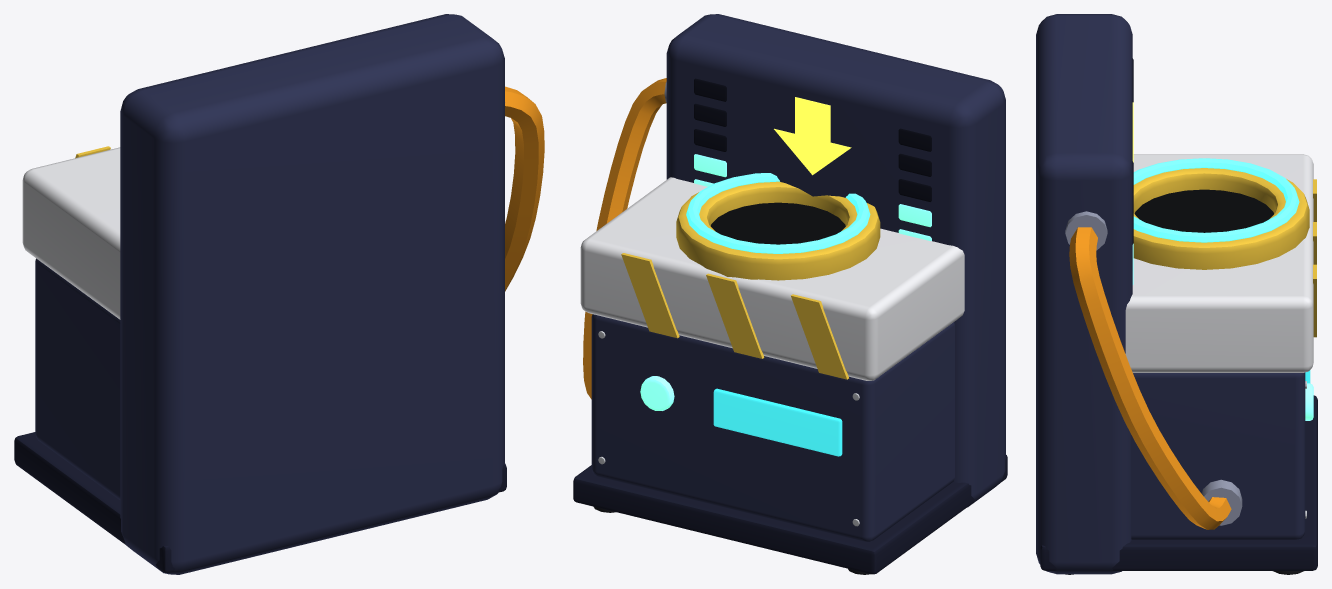
Rendered from canister_dock.glb.
The picture shows the model from 3 angles, left to right: view 1: azimuth 30°, elevation 25°; view 2: azimuth 150°, elevation 25°; view 3: azimuth 270°, elevation 25°; orthographic projection. The views are drawn at different scales.
Visible parts, largest first — view 1: Body; view 2: Body; view 3: Body.
Boxes of the visible parts, left/top/right/bottom form: Body: left=14, top=14, right=544, bottom=574; Body: left=573, top=14, right=1007, bottom=574; Body: left=1036, top=14, right=1317, bottom=574.
Bounding box in the file's own units: 1.04 × 1.1 × 0.67.
